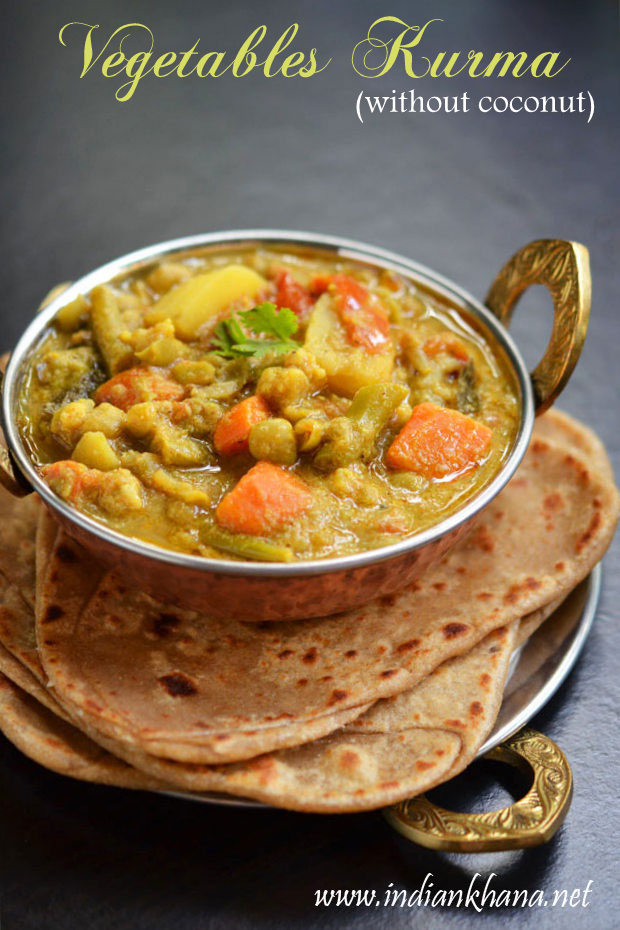curry: (41, 237, 519, 570)
roti: (12, 499, 578, 799)
